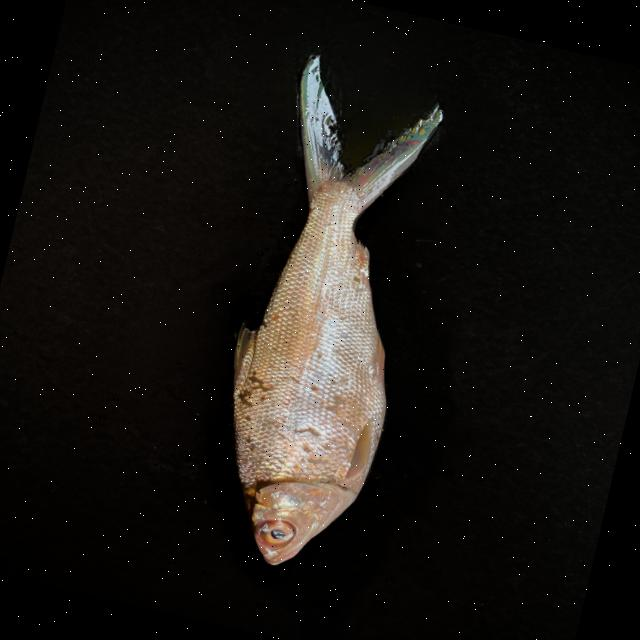575 g: (189, 49, 461, 581)
